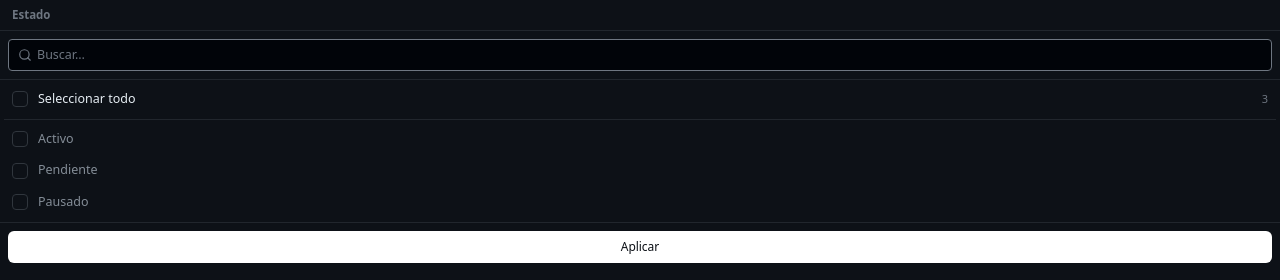
Scenario: <MultiSelectFilterContent /> › shows the empty label when search yields no matches
The image size is (1280, 280).
Type "zzz" into the field with placeholder "Buscar…" at point(640, 55), box [8, 39, 1272, 71]
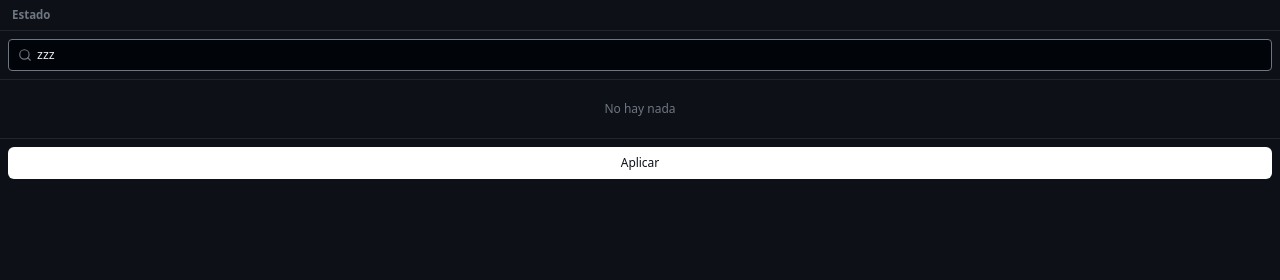
Now the text "No hay nada" is shown, box [604, 100, 676, 117]
